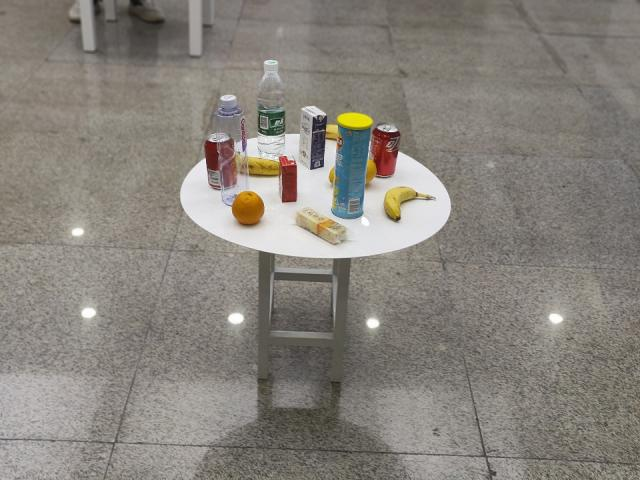Canned_drinks: (374, 124, 401, 180)
bottle: (255, 61, 293, 156), (213, 96, 250, 192)
cylinder: (334, 116, 368, 214)
drink_box: (302, 106, 327, 169), (280, 156, 301, 204)
